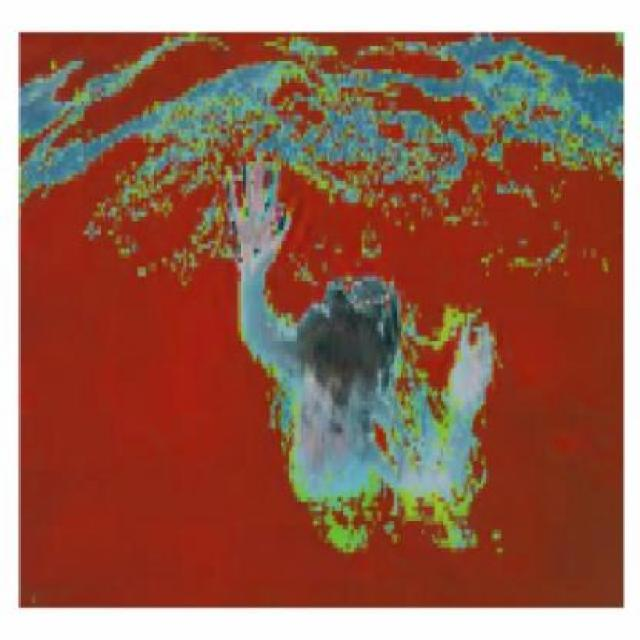drowning: (230, 170, 484, 513)
